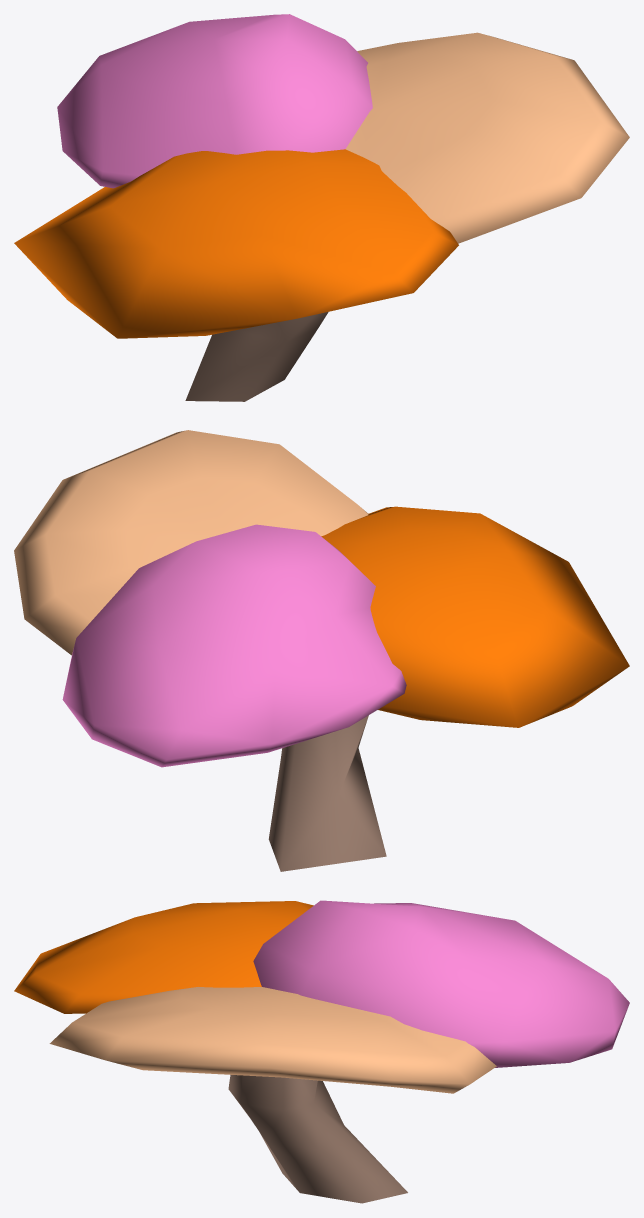
Rendered from C_Mushroom_1.fbx.
3 renders of one model, top to bottom at view 1: azimuth 30°, elevation 25°; view 2: azimuth 150°, elevation 25°; view 3: azimuth 270°, elevation 25°, orthographic. The views are drawn at different scales.
Parts seen in each view (by area): view 1: tree_3.005; view 2: tree_3.005; view 3: tree_3.005.
Boxes of the visible parts, box(x1,y1,x2,y2) form: tree_3.005: box(14, 14, 629, 401); tree_3.005: box(14, 430, 629, 871); tree_3.005: box(14, 900, 629, 1203).
Size of the model in its own units: 40.48 by 24.02 by 43.55.
